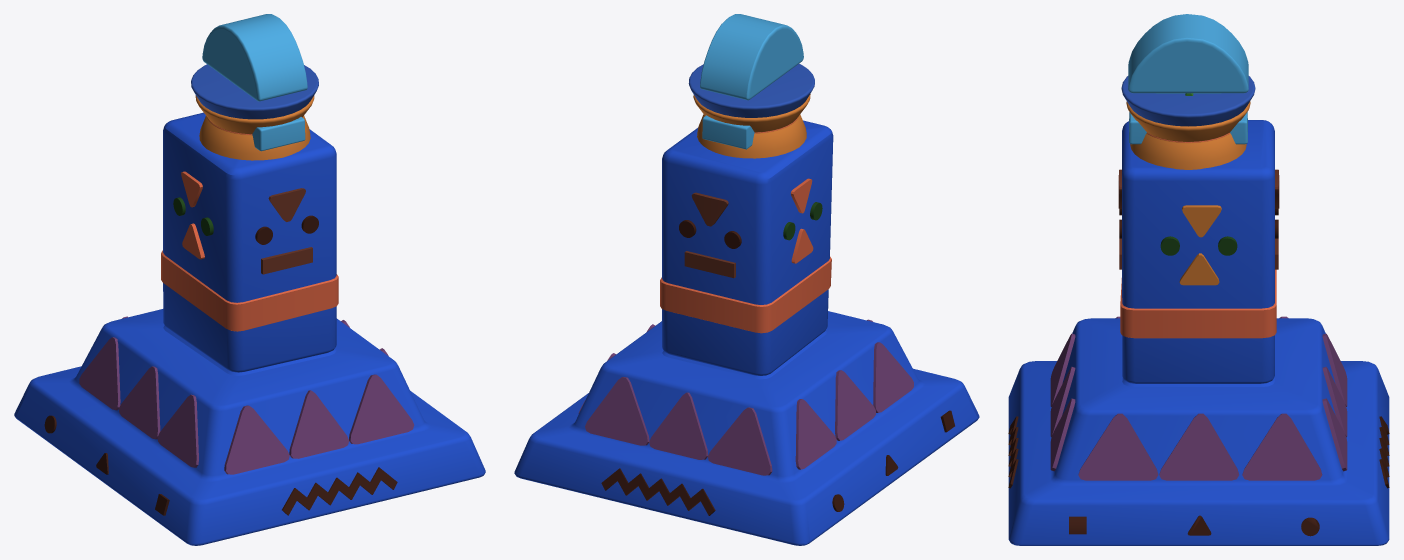
The model's file is blueroom_props.fbx.
3 views of the same model, side by side, from view 1: azimuth 30°, elevation 25°; view 2: azimuth 150°, elevation 25°; view 3: azimuth 270°, elevation 25° (orthographic). The views are drawn at different scales.
Visible parts, largest first — view 1: monument_2, tower_1, tower_2, pot_1; view 2: monument_2, tower_1, tower_2, pot_1; view 3: monument_2, tower_1, pot_1, tower_2.
Boxes of the visible parts, x1,y1,x2,y2 form: monument_2: (14,112,485,545); tower_1: (202,14,307,151); tower_2: (191,64,318,134); pot_1: (195,95,314,160); monument_2: (514,120,979,545); tower_1: (700,14,803,149); tower_2: (688,63,814,133); pot_1: (693,94,810,158); monument_2: (1008,120,1389,545); tower_1: (1128,14,1248,144); pot_1: (1126,101,1250,169); tower_2: (1121,76,1255,142).
Bounding box in the file's own units: 721 × 984 × 764.
